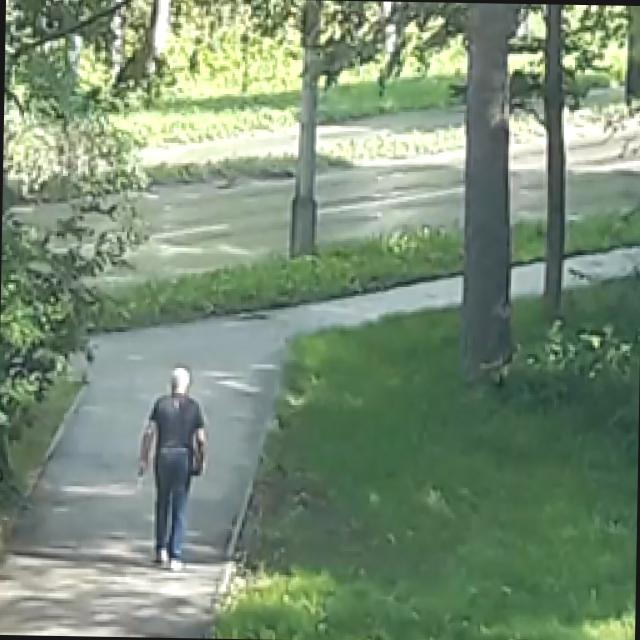person: (136, 364, 210, 570)
